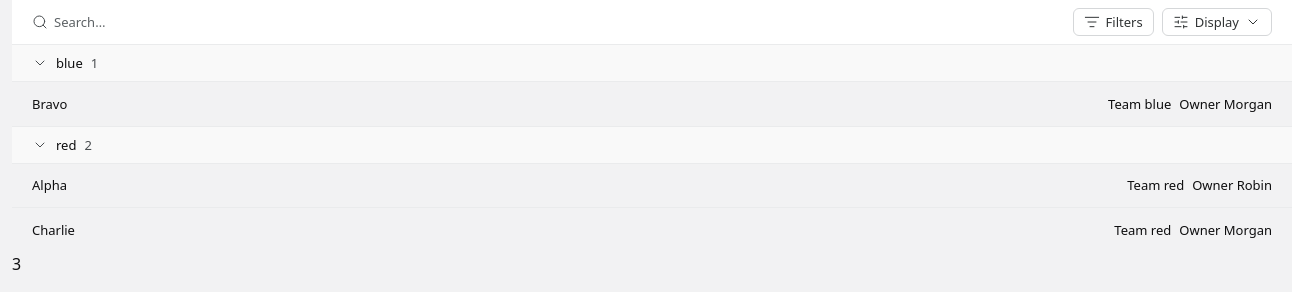
Test: DataList › counts the rows that pass search and filters in the page header
Expected: the text named "Page count" reads "3", [12,253,21,275]
In the field labelled "Search": [155, 22] box [54,12,256,32], type "Bravo"
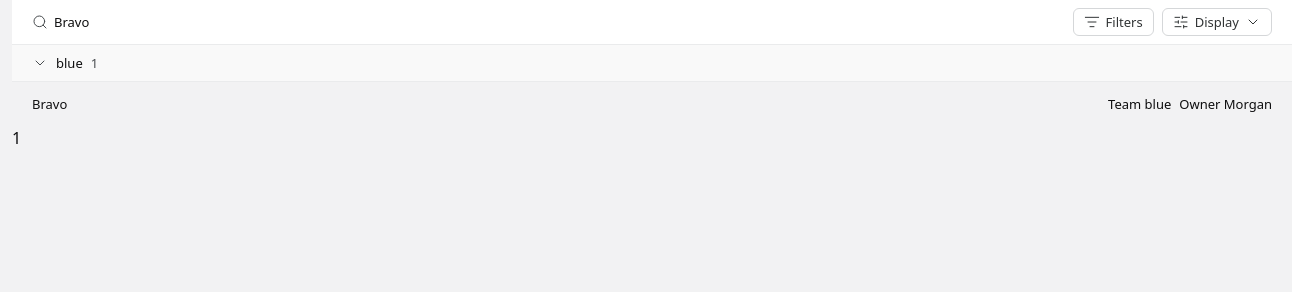
Expected: the text named "Page count" reads "1", [12,127,21,149]
